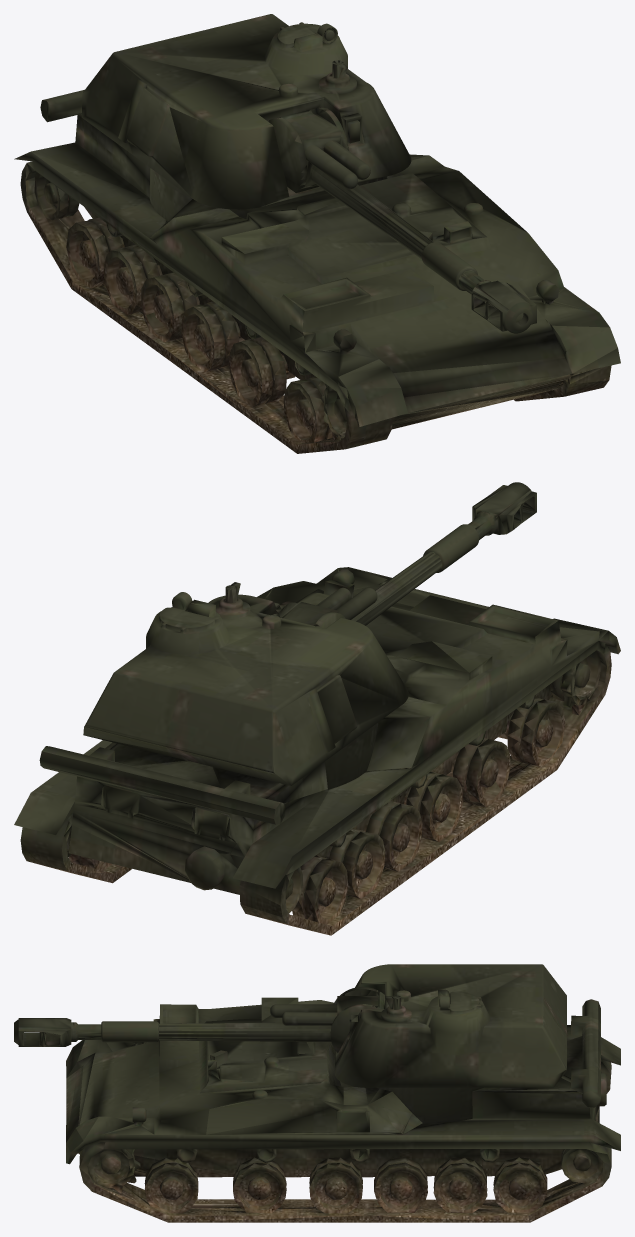
File: spg_2s3.glb
The picture shows the model from 3 angles, top to bottom: view 1: azimuth 30°, elevation 25°; view 2: azimuth 150°, elevation 25°; view 3: azimuth 270°, elevation 25°; orthographic projection. The views are drawn at different scales.
Visible parts, largest first — view 1: 2S3_Acacia_Turm; view 2: 2S3_Acacia_Turm; view 3: 2S3_Acacia_Turm.
Part boxes in pixels (<box>): 2S3_Acacia_Turm: <box>14,14,620,453</box>; 2S3_Acacia_Turm: <box>14,482,620,935</box>; 2S3_Acacia_Turm: <box>14,964,620,1222</box>.
Size of the model in its own units: 3.37 by 3.12 by 8.4.
1 material, 1 textured.
